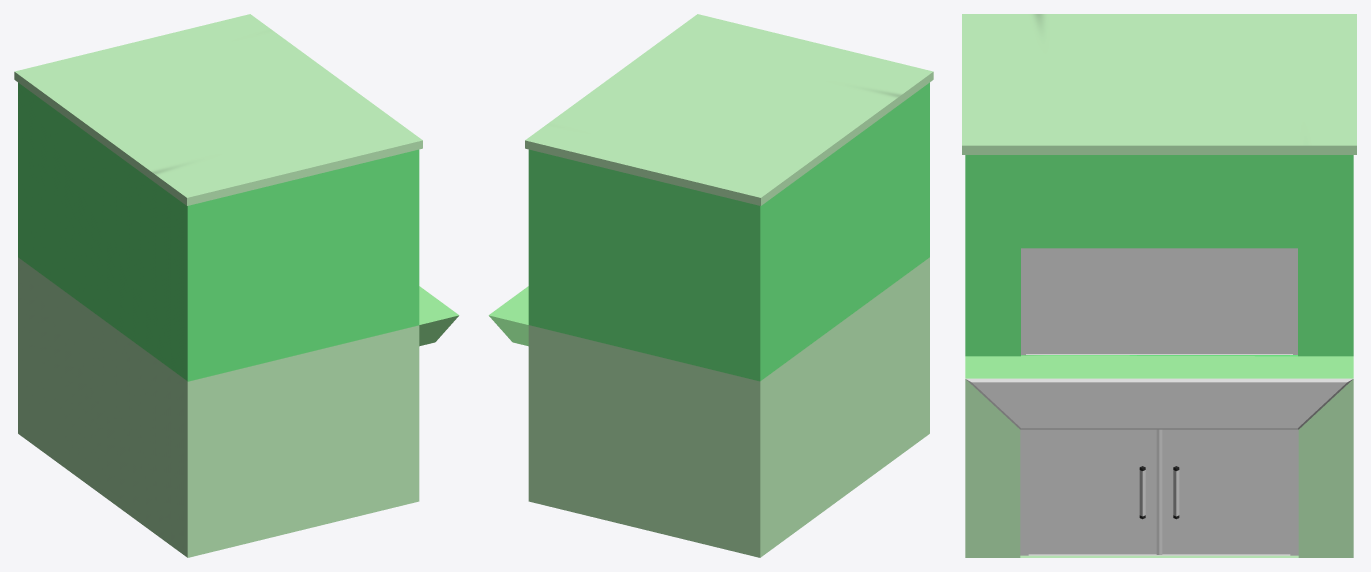
The model's file is model-scenario-static-level0-building-4.fbx.
3 views of the same model, side by side, from view 1: azimuth 30°, elevation 25°; view 2: azimuth 150°, elevation 25°; view 3: azimuth 270°, elevation 25° (orthographic). The views are drawn at different scales.
Parts seen in each view (by area): view 1: building; view 2: building; view 3: building.
Boxes of the visible parts, x1,y1,x2,y2 form: building: (14, 14, 459, 557); building: (488, 14, 933, 557); building: (962, 14, 1356, 557).
Size of the model in its own units: 14.2 by 13.1 by 16.41.
4 materials, 1 textured.
